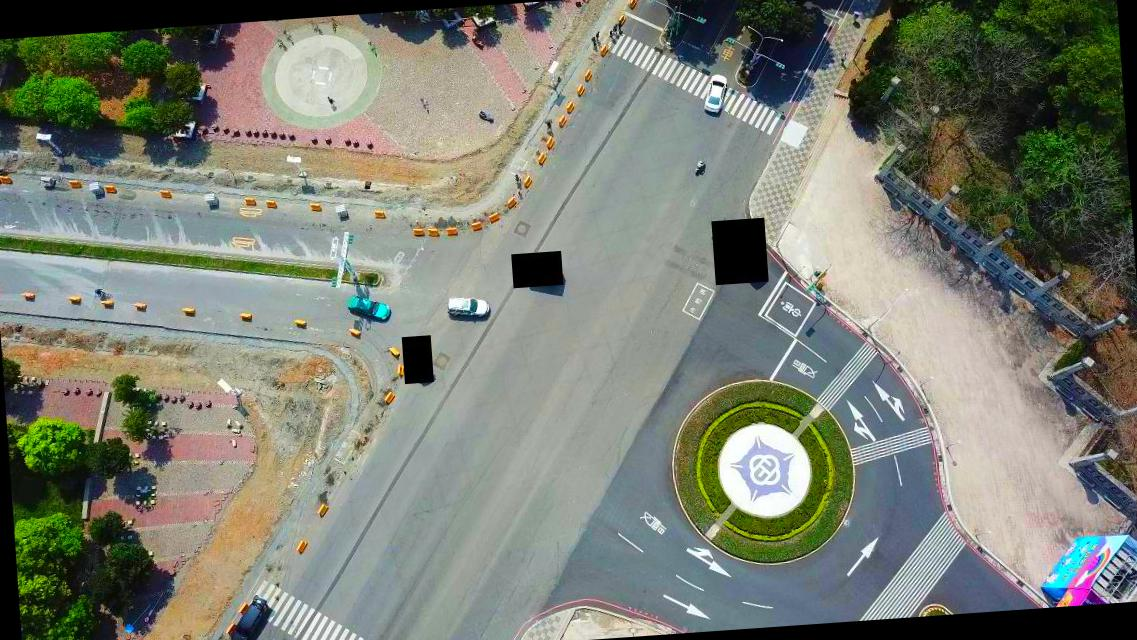vehicle: (226, 594, 272, 639), (346, 294, 390, 324), (445, 294, 490, 320), (701, 73, 729, 114)
